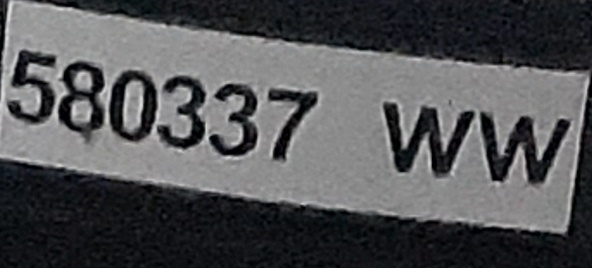0: (108, 67, 156, 148)
3: (158, 72, 209, 153), (209, 81, 260, 161)
5: (3, 47, 59, 131)
7: (265, 86, 321, 164)
8: (57, 58, 105, 137)
w: (379, 97, 477, 184), (478, 109, 573, 192)
